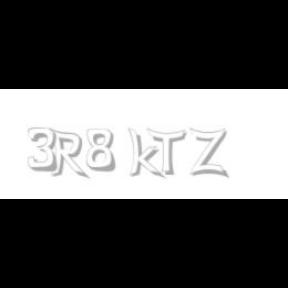3: (28, 128, 58, 172)
8: (86, 128, 115, 172)
R: (49, 128, 87, 180)
T: (146, 128, 186, 176)
Z: (190, 128, 226, 178)
k: (127, 128, 165, 180)
